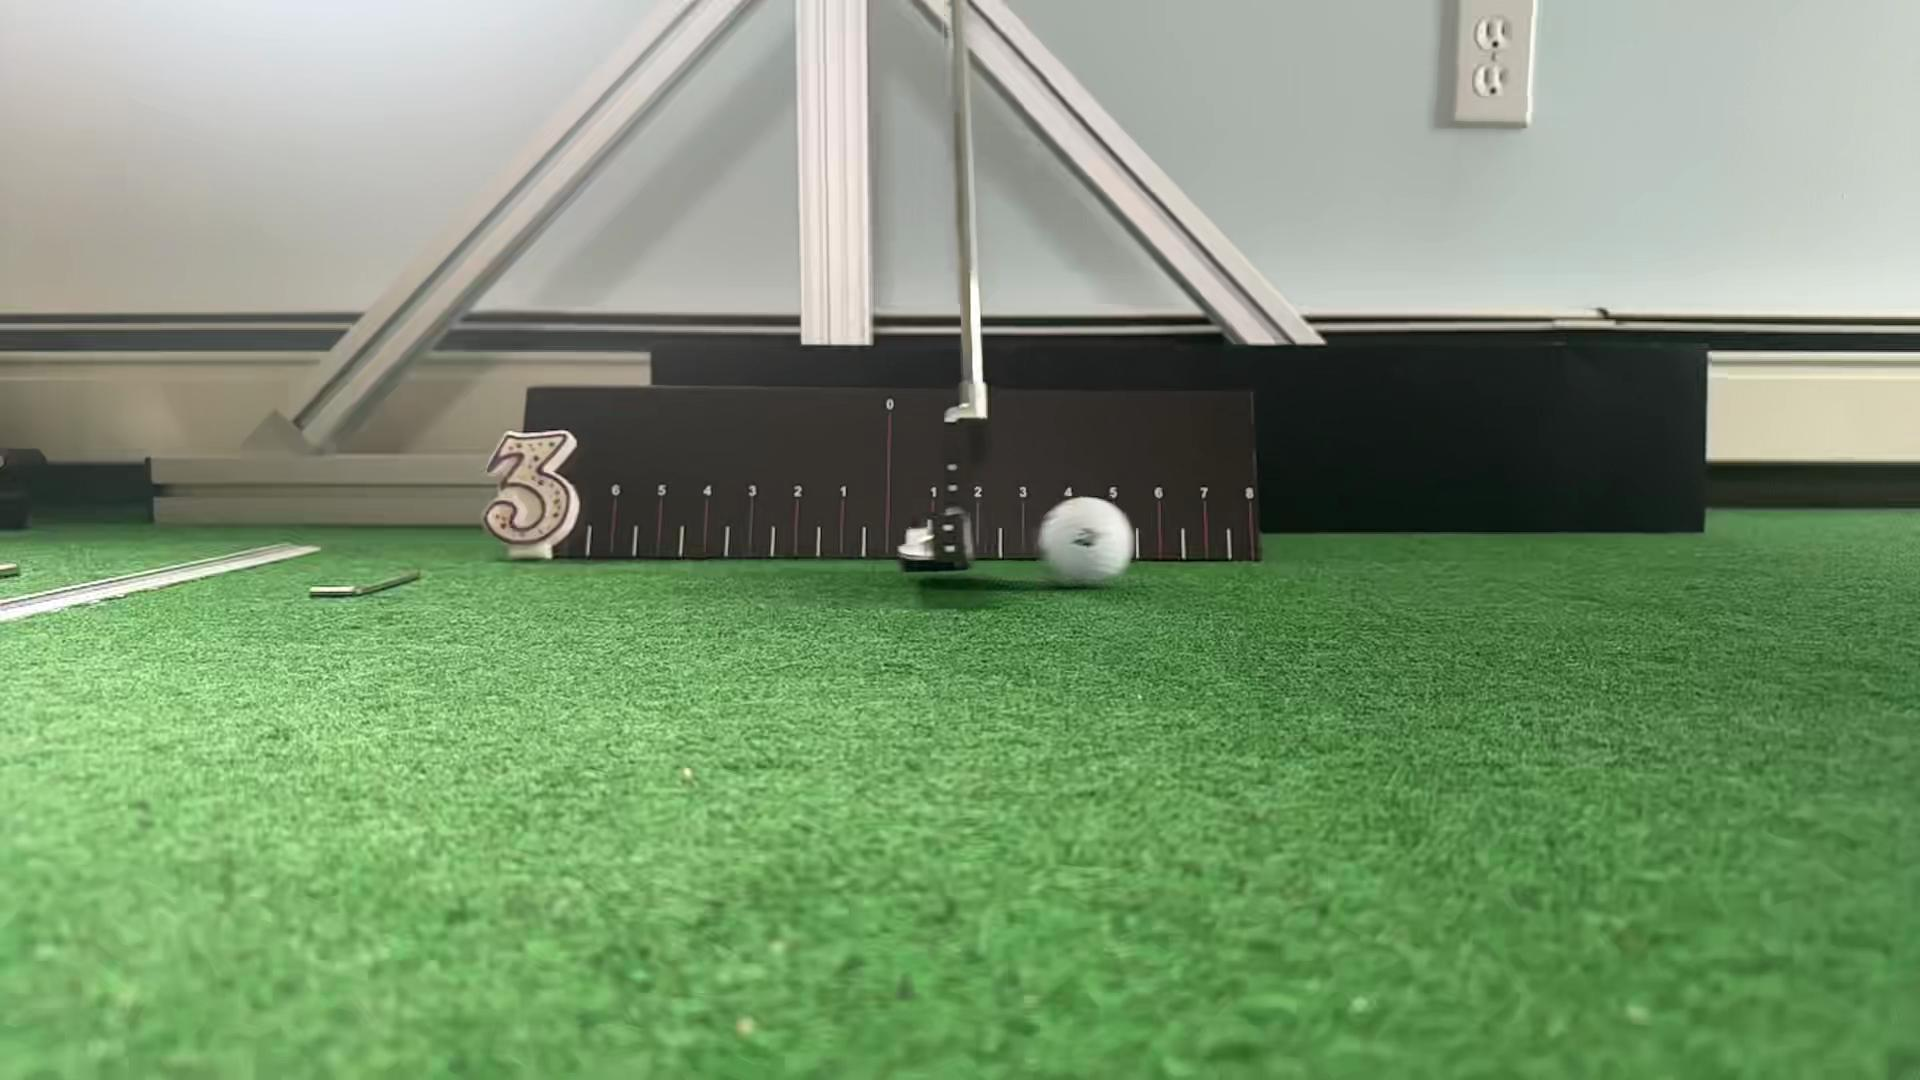golfball: (1042, 497, 1133, 585)
